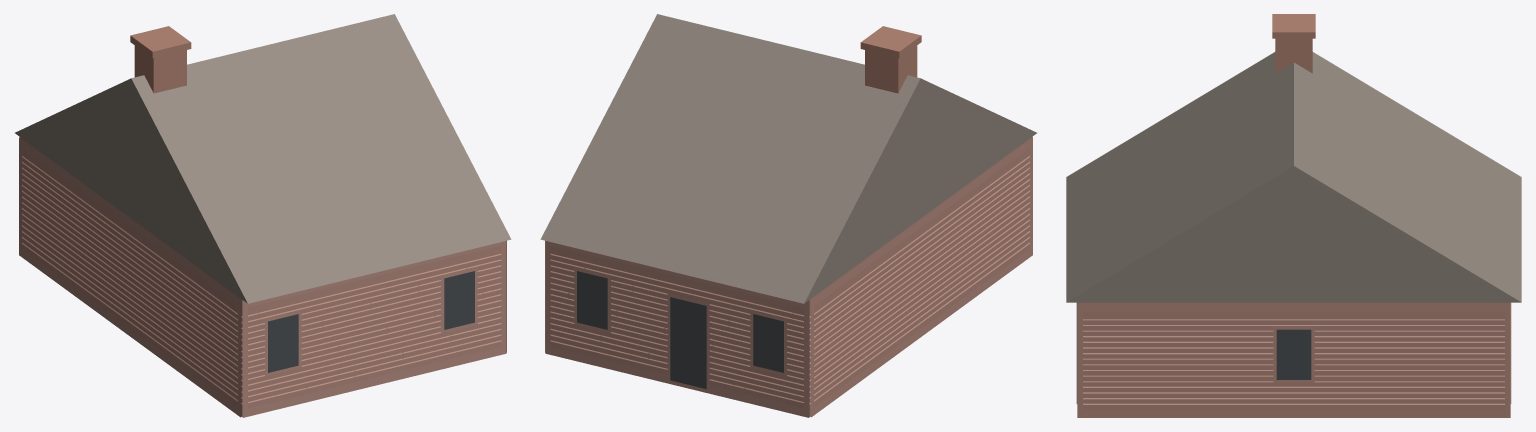
File: recon_1835_north_d5_057__inferred_1835.glb
The picture shows the model from 3 angles, left to right: view 1: azimuth 30°, elevation 25°; view 2: azimuth 150°, elevation 25°; view 3: azimuth 270°, elevation 25°; orthographic projection. The views are drawn at different scales.
Parts seen in each view (by area): view 1: recon_1835_north_d5_057__inferred_1835; view 2: recon_1835_north_d5_057__inferred_1835; view 3: recon_1835_north_d5_057__inferred_1835.
Boxes of the visible parts, left/top/right/bottom form: recon_1835_north_d5_057__inferred_1835: left=15, top=14, right=511, bottom=417; recon_1835_north_d5_057__inferred_1835: left=540, top=14, right=1036, bottom=417; recon_1835_north_d5_057__inferred_1835: left=1066, top=14, right=1521, bottom=417.
Size of the model in its own units: 6.77 by 7.03 by 10.26.
